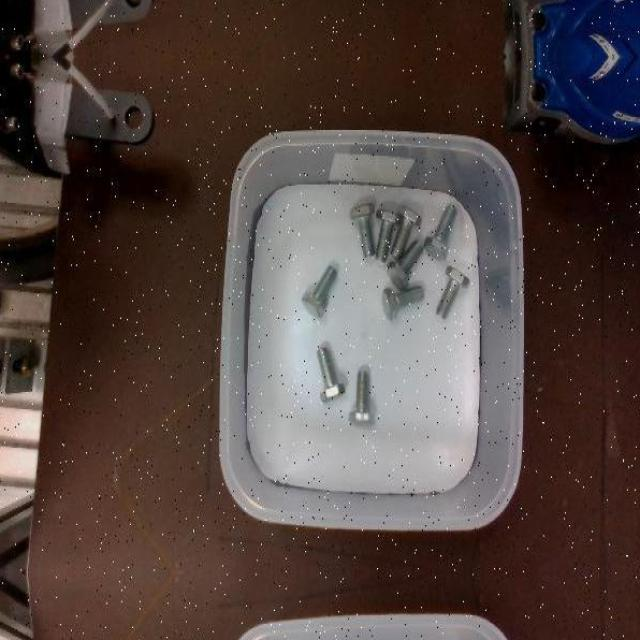screw: (301, 264, 337, 317), (424, 204, 458, 260), (435, 264, 470, 318), (387, 240, 424, 290), (390, 207, 422, 260), (317, 347, 346, 403), (382, 286, 424, 322), (348, 370, 374, 424), (374, 208, 400, 262), (350, 203, 375, 257)
